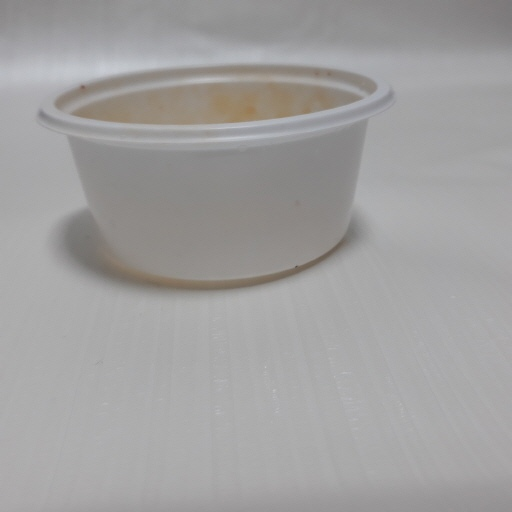Plastic_5: (34, 61, 399, 286)
